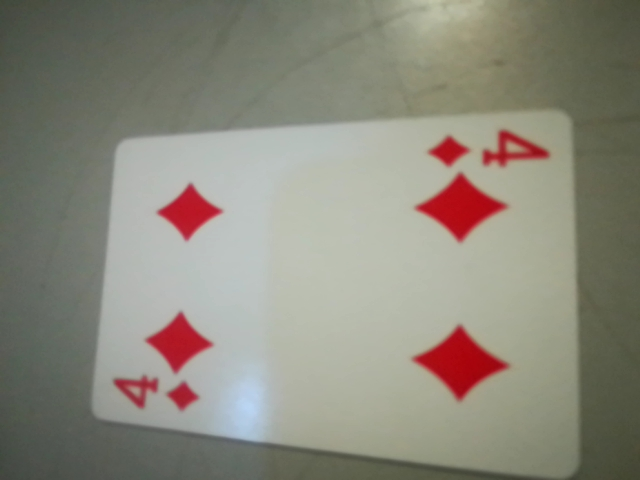fk 4: (415, 127, 562, 181)
